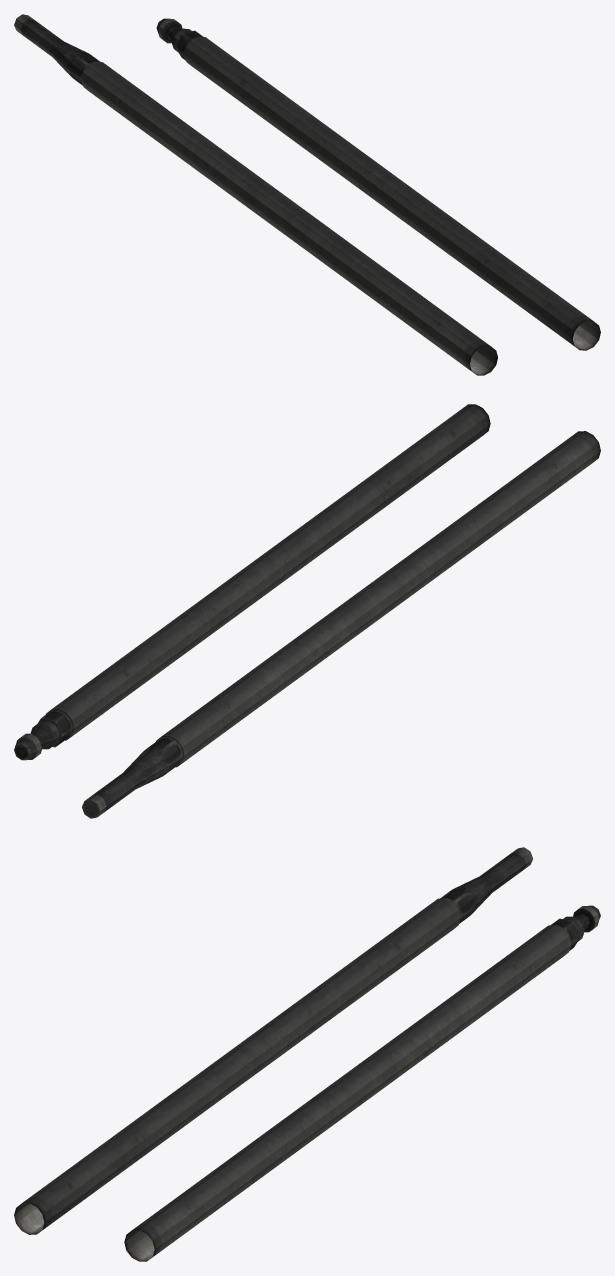
3 renders of one model, top to bottom at view 1: azimuth 30°, elevation 25°; view 2: azimuth 150°, elevation 25°; view 3: azimuth 330°, elevation 25°, orthographic. The views are drawn at different scales.
Parts seen in each view (by area): view 1: TW_62e7c4fba689e8c9c50dfc38_PZ_Import; view 2: TW_62e7c4fba689e8c9c50dfc38_PZ_Import; view 3: TW_62e7c4fba689e8c9c50dfc38_PZ_Import.
Part boxes in pixels (<box>): TW_62e7c4fba689e8c9c50dfc38_PZ_Import: <box>14,14,600,375</box>; TW_62e7c4fba689e8c9c50dfc38_PZ_Import: <box>14,404,600,818</box>; TW_62e7c4fba689e8c9c50dfc38_PZ_Import: <box>14,847,600,1261</box>.
Bounding box in the file's own units: 0.0272 × 0.1659 × 0.00587.
Materials: 1 (1 with a texture image).
